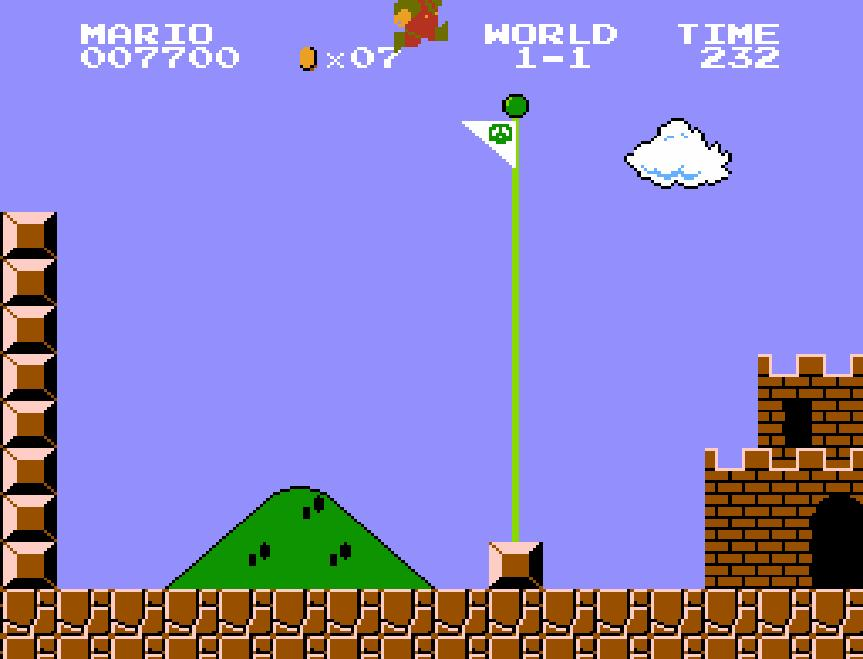big_mario: (392, 0, 450, 53)
